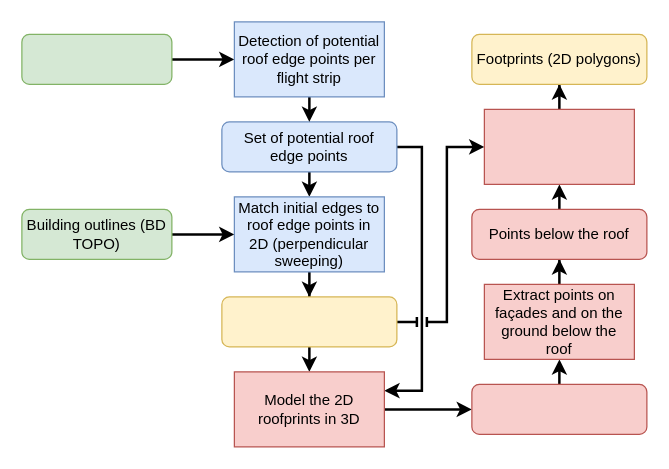
The diagram is 669 pixels wide and 469 high, and some of its shapes have lost their labels. Here are the shapes that lost their labels. From the top down, the centre of each, then its label:
At [96,58]: "Classified ALS Point cloud (LiDAR HD)".
At [558,146]: "Match 2D roofprints edges to detected points (perpendicular sweeping)".
At [309,321]: "Roofprints (2D polygons)".
At [559,408]: "Roof outer edges (3D linestrings)".
